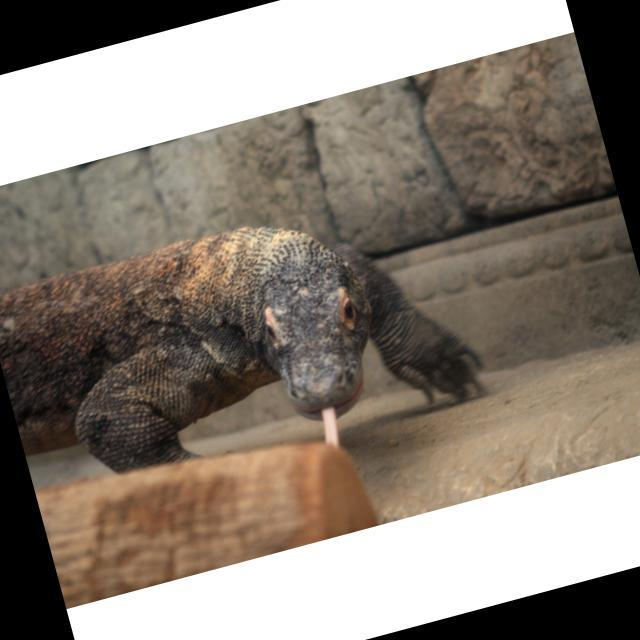KomodoDragon: (0, 170, 494, 523)
